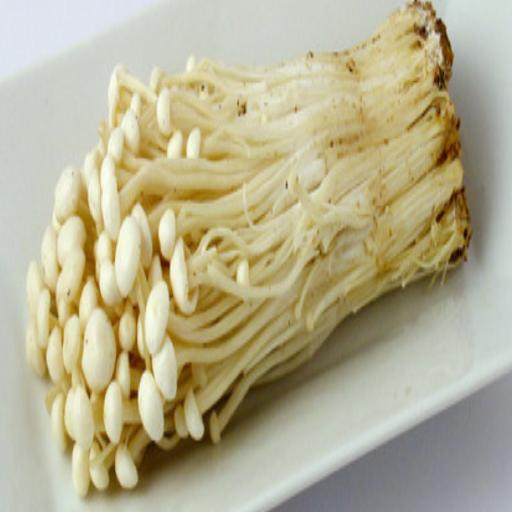Enoki Mushroom: (0, 0, 512, 508)
